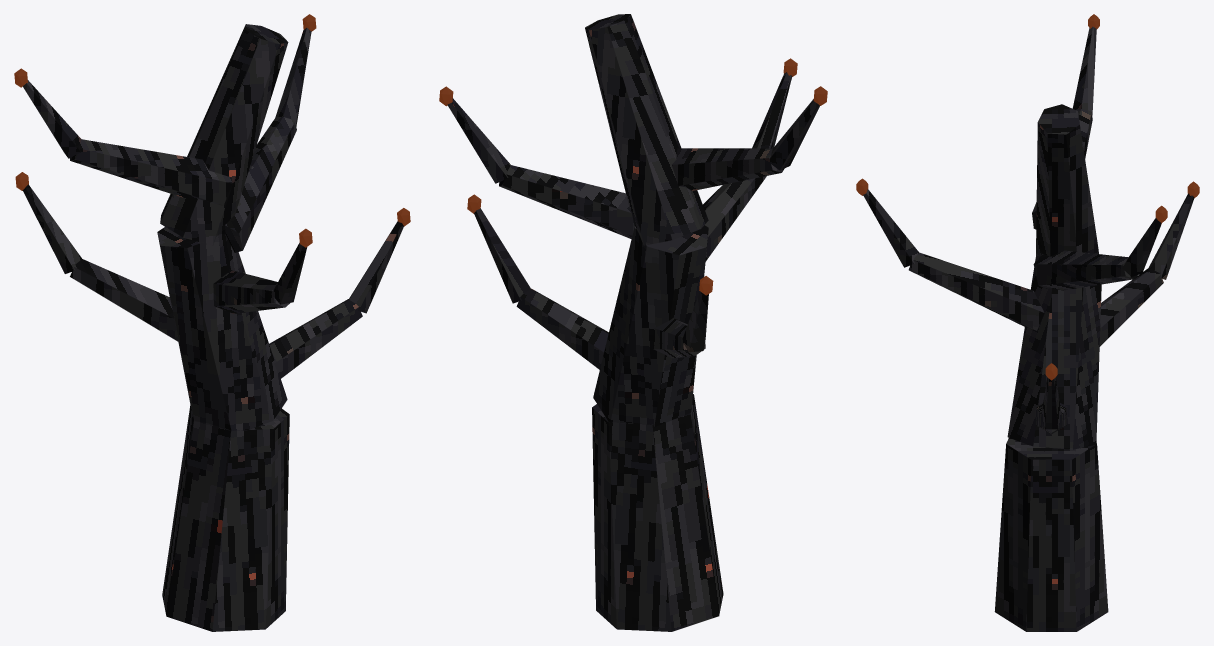
The model's file is arvore_jovem.fbx.
3 views of the same model, side by side, from view 1: azimuth 30°, elevation 25°; view 2: azimuth 150°, elevation 25°; view 3: azimuth 270°, elevation 25° (orthographic). The views are drawn at different scales.
Visible parts, largest first — view 1: vulcao_arvore_jovem; view 2: vulcao_arvore_jovem; view 3: vulcao_arvore_jovem.
Boxes of the visible parts, x1,y1,x2,y2 form: vulcao_arvore_jovem: (14,14,410,631); vulcao_arvore_jovem: (439,14,827,631); vulcao_arvore_jovem: (856,14,1199,631).
Bounding box in the file's own units: 99.99 × 147 × 88.29.
Materials: 2 (1 with a texture image).
